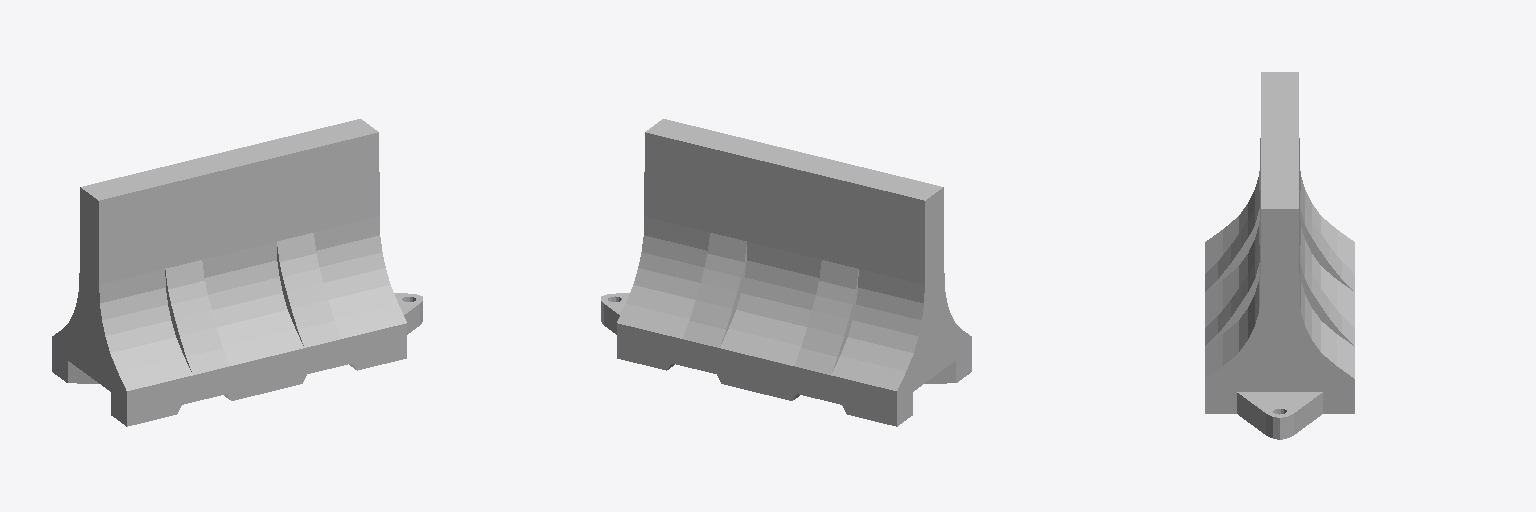
Rendered from SM_Plastic_barrier_04.obj.
3 renders of one model, left to right at view 1: azimuth 30°, elevation 25°; view 2: azimuth 150°, elevation 25°; view 3: azimuth 270°, elevation 25°, orthographic.
Visible parts, largest first — view 1: SM_Plastic_Barrier_04_Plastic_Barrier_04.018; view 2: SM_Plastic_Barrier_04_Plastic_Barrier_04.018; view 3: SM_Plastic_Barrier_04_Plastic_Barrier_04.018.
Boxes of the visible parts, <box> form: SM_Plastic_Barrier_04_Plastic_Barrier_04.018: <box>52,119,422,426</box>; SM_Plastic_Barrier_04_Plastic_Barrier_04.018: <box>601,119,971,426</box>; SM_Plastic_Barrier_04_Plastic_Barrier_04.018: <box>1205,72,1354,439</box>.
Size of the model in its own units: 1.19 by 0.7 by 0.4633.